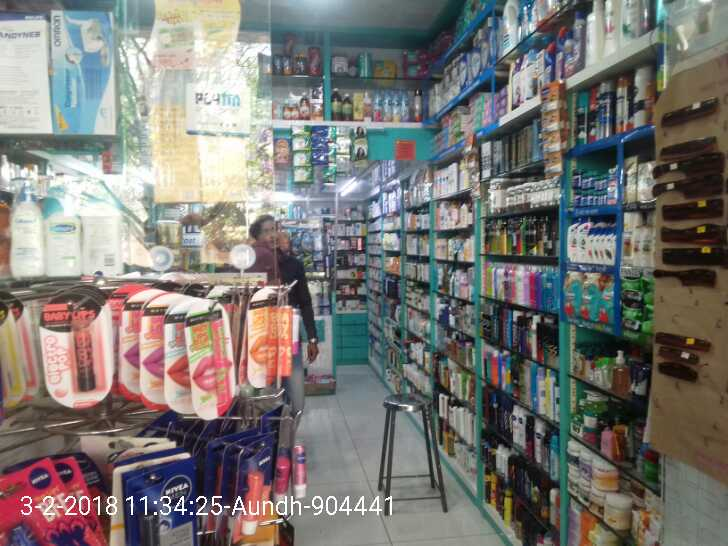vicks: (572, 164, 618, 208)
